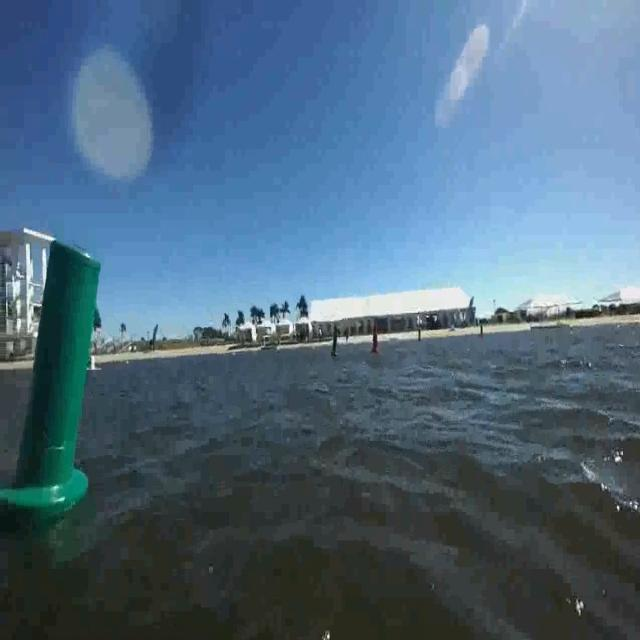green-column-buoy: (1, 204, 105, 512), (329, 326, 340, 358)
red-column-buoy: (369, 325, 380, 356)
